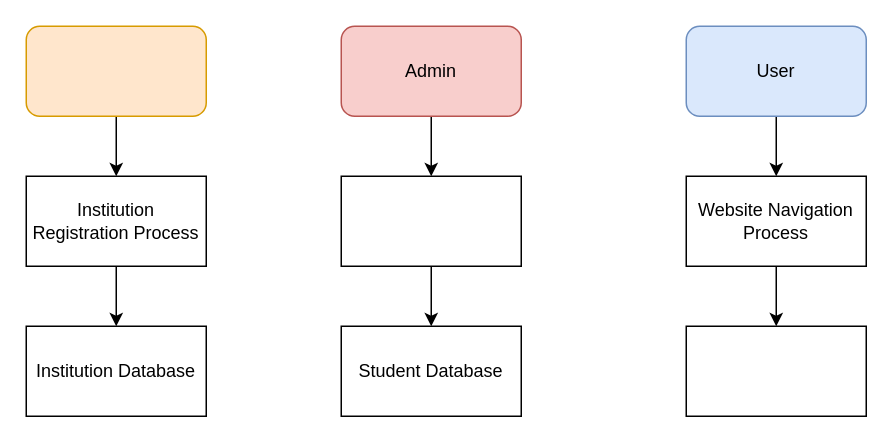
This 893x443 diagram has some shape labels left out. Each missing label, with the centre of its shape:
Institution: the point at 115,70
Student Data Management Process: the point at 430,220
Website Pages (Home, About, Contact): the point at 775,370
